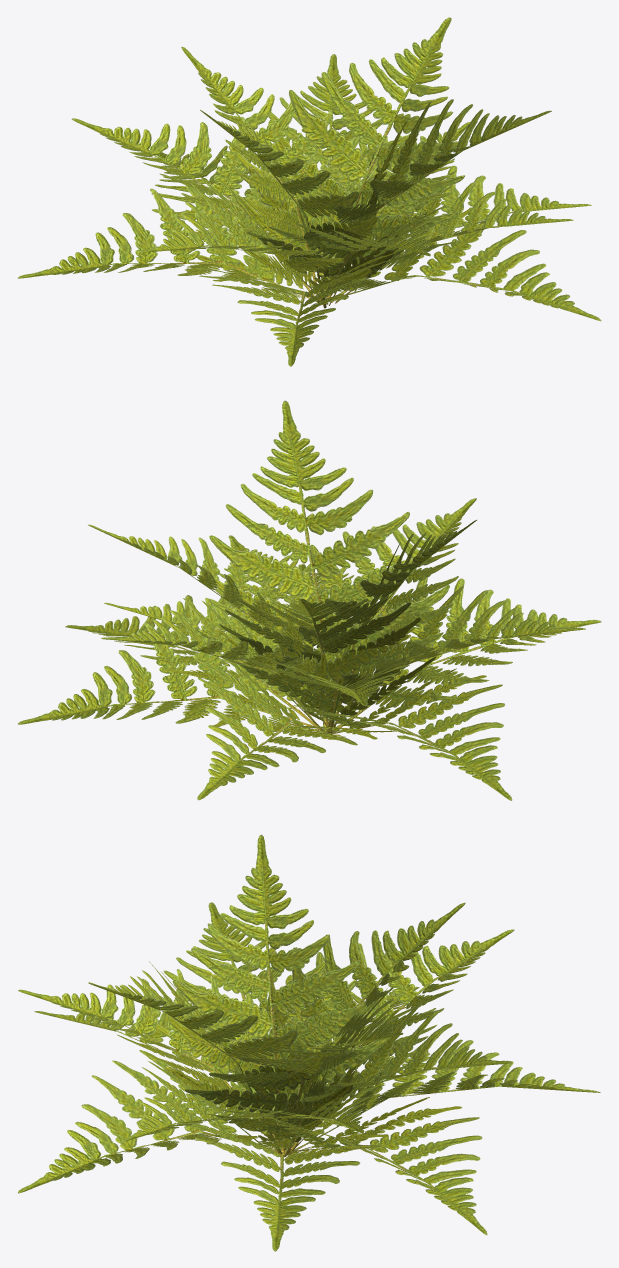
The model's file is plant1.obj.
The picture shows the model from 3 angles, top to bottom: view 1: azimuth 30°, elevation 25°; view 2: azimuth 150°, elevation 25°; view 3: azimuth 270°, elevation 25°; orthographic projection. The views are drawn at different scales.
Parts seen in each view (by area): view 1: Plane.018_Plane.022, Plane.019_Plane.023, Plane.005_Plane.009, Plane.007_Plane.011, Plane.004_Plane.008, Plane_Plane.001, Plane.008_Plane.012, Plane.010_Plane.014, Plane.012_Plane.016, Plane.014_Plane.018, Plane.002_Plane.006, Plane.006_Plane.010 (+3 smaller); view 2: Plane.007_Plane.011, Plane.003_Plane.007, Plane.013_Plane.017, Plane.019_Plane.023, Plane.005_Plane.009, Plane.002_Plane.006, Plane.014_Plane.018, Plane.018_Plane.022, Plane.010_Plane.014, Plane.012_Plane.016, Plane_Plane.001, Plane.008_Plane.012 (+4 smaller); view 3: Plane.008_Plane.012, Plane.004_Plane.008, Plane.003_Plane.007, Plane.019_Plane.023, Plane.007_Plane.011, Plane.011_Plane.015, Plane_Plane.001, Plane.018_Plane.022, Plane.002_Plane.006, Plane.012_Plane.016, Plane.013_Plane.017, Plane.010_Plane.014 (+4 smaller).
Boxes of the visible parts, bbox=[...] form: Plane.018_Plane.022: bbox=[248, 17, 464, 298]; Plane.019_Plane.023: bbox=[181, 46, 378, 305]; Plane.005_Plane.009: bbox=[17, 180, 310, 298]; Plane.007_Plane.011: bbox=[304, 99, 551, 305]; Plane.004_Plane.008: bbox=[344, 208, 601, 321]; Plane_Plane.001: bbox=[71, 117, 316, 296]; Plane.008_Plane.012: bbox=[200, 109, 393, 308]; Plane.010_Plane.014: bbox=[139, 179, 372, 304]; Plane.012_Plane.016: bbox=[234, 54, 435, 294]; Plane.014_Plane.018: bbox=[193, 247, 398, 366]; Plane.002_Plane.006: bbox=[246, 205, 445, 300]; Plane.006_Plane.010: bbox=[335, 177, 573, 303]; Plane.007_Plane.011: bbox=[209, 400, 449, 724]; Plane.003_Plane.007: bbox=[17, 604, 320, 731]; Plane.013_Plane.017: bbox=[197, 650, 394, 800]; Plane.019_Plane.023: bbox=[219, 597, 424, 732]; Plane.005_Plane.009: bbox=[294, 668, 512, 800]; Plane.002_Plane.006: bbox=[281, 498, 476, 726]; Plane.014_Plane.018: bbox=[332, 577, 601, 732]; Plane.018_Plane.022: bbox=[88, 524, 329, 726]; Plane.010_Plane.014: bbox=[335, 585, 585, 725]; Plane.012_Plane.016: bbox=[101, 598, 345, 732]; Plane_Plane.001: bbox=[223, 646, 441, 734]; Plane.008_Plane.012: bbox=[275, 520, 476, 726]; Plane.008_Plane.012: bbox=[168, 834, 390, 1152]; Plane.004_Plane.008: bbox=[17, 1050, 295, 1193]; Plane.003_Plane.007: bbox=[269, 1097, 487, 1235]; Plane.019_Plane.023: bbox=[245, 902, 465, 1145]; Plane.007_Plane.011: bbox=[88, 961, 352, 1154]; Plane.011_Plane.015: bbox=[170, 1108, 388, 1251]; Plane_Plane.001: bbox=[257, 929, 514, 1154]; Plane.018_Plane.022: bbox=[185, 981, 403, 1150]; Plane.002_Plane.006: bbox=[18, 969, 284, 1147]; Plane.012_Plane.016: bbox=[271, 1002, 512, 1152]; Plane.013_Plane.017: bbox=[288, 1040, 600, 1154]; Plane.010_Plane.014: bbox=[153, 902, 376, 1154].
Bounding box in the file's own units: 6.94 × 3.09 × 6.51.
